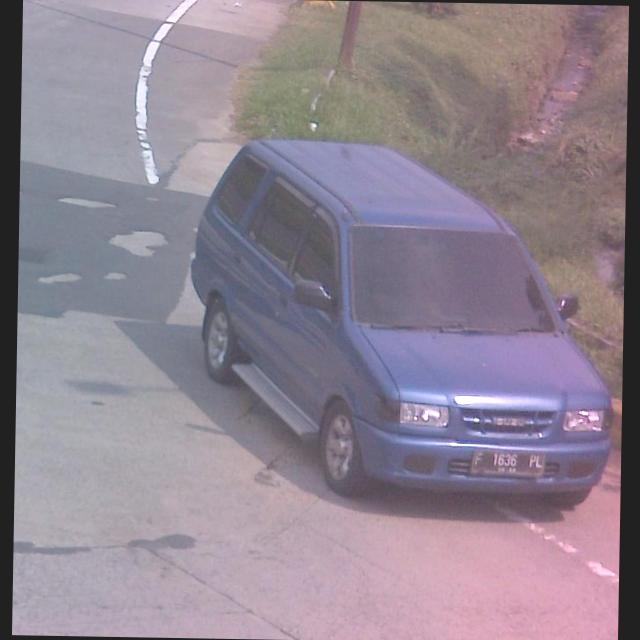plate: (468, 449, 546, 480)
